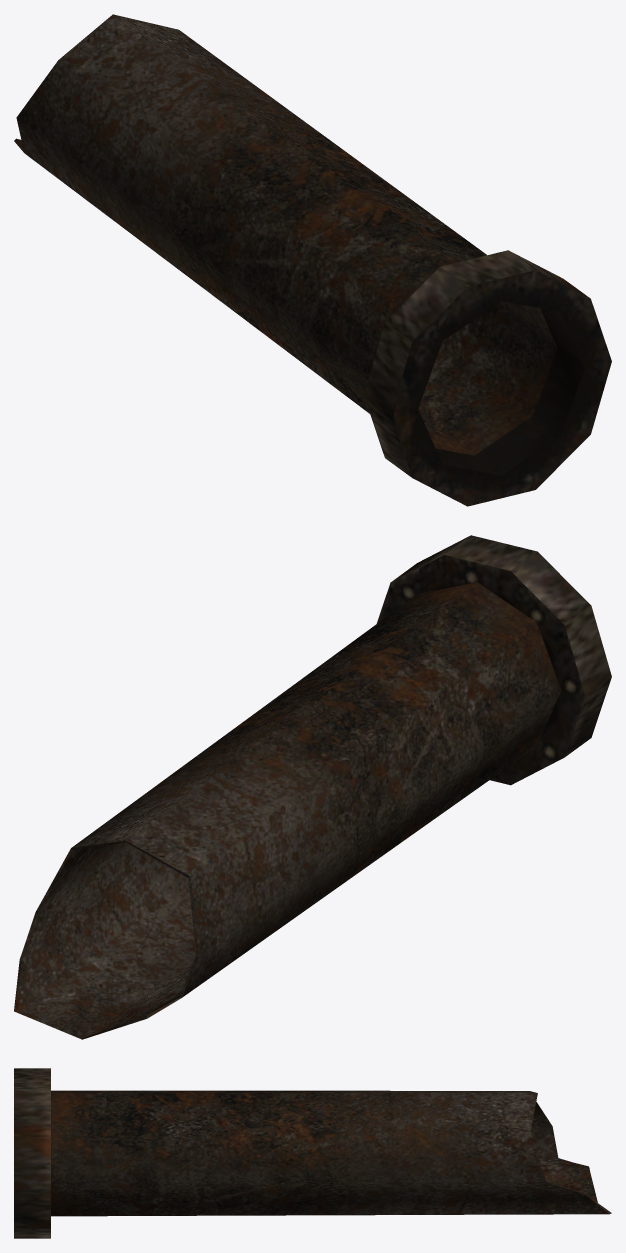
File: pipe_piece.dae
The picture shows the model from 3 angles, top to bottom: view 1: azimuth 30°, elevation 25°; view 2: azimuth 150°, elevation 25°; view 3: azimuth 270°, elevation 25°; orthographic projection. The views are drawn at different scales.
Visible parts, largest first — view 1: polySurface17; view 2: polySurface17; view 3: polySurface17.
Part boxes in pixels (x1,y1,x2,y2): polySurface17: (14, 14, 611, 506); polySurface17: (14, 535, 611, 1039); polySurface17: (14, 1068, 611, 1238).
Bounding box in the file's own units: 0.4332 × 0.4121 × 1.51.
